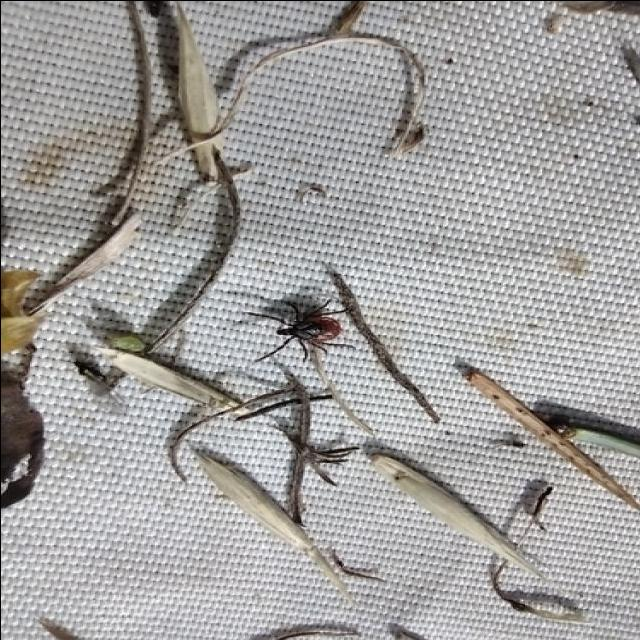Ixodes Ricinus-F: (254, 300, 357, 360)
